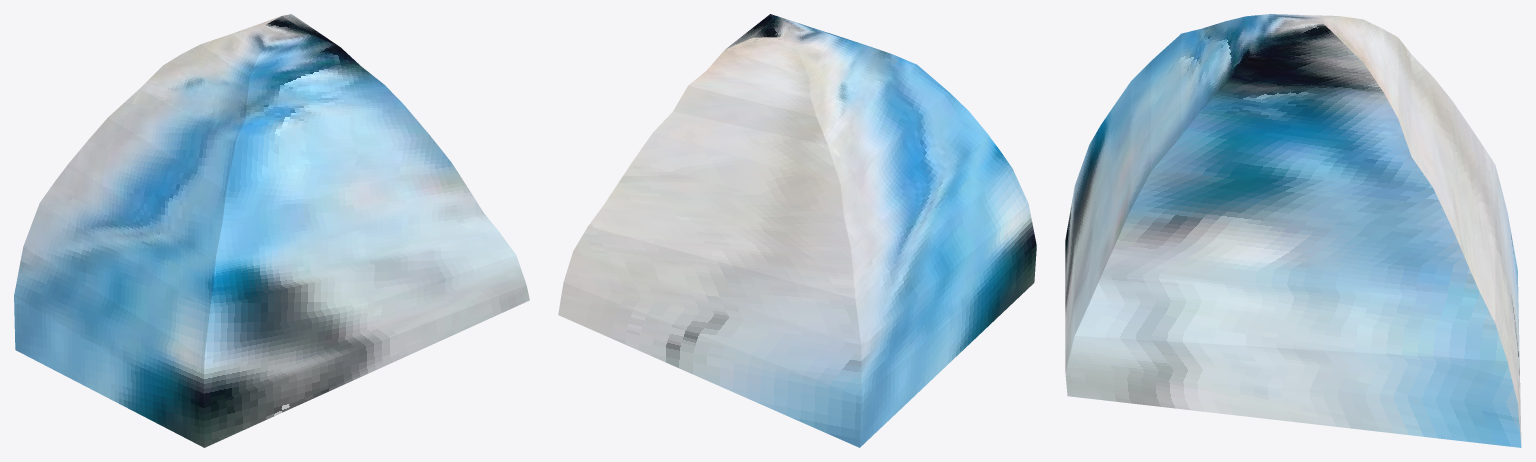
The picture shows the model from 3 angles, left to right: view 1: azimuth 30°, elevation 25°; view 2: azimuth 150°, elevation 25°; view 3: azimuth 270°, elevation 25°; orthographic projection. The views are drawn at different scales.
Parts seen in each view (by area): view 1: SPLICE_2.003; view 2: SPLICE_2.003; view 3: SPLICE_2.003.
Boxes of the visible parts, x1=… form: SPLICE_2.003: x1=14, y1=14, x2=529, y2=447; SPLICE_2.003: x1=558, y1=14, x2=1036, y2=447; SPLICE_2.003: x1=1065, y1=14, x2=1521, y2=447.
Bounding box in the file's own units: 1.05 × 1.06 × 1.07.
1 material, 1 textured.
